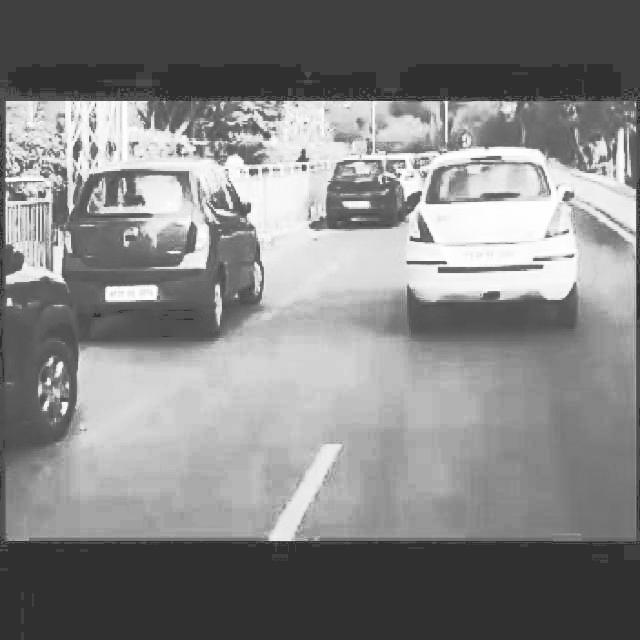Car: (76, 158, 276, 340), (407, 151, 591, 327), (0, 233, 85, 453), (312, 149, 416, 233)
